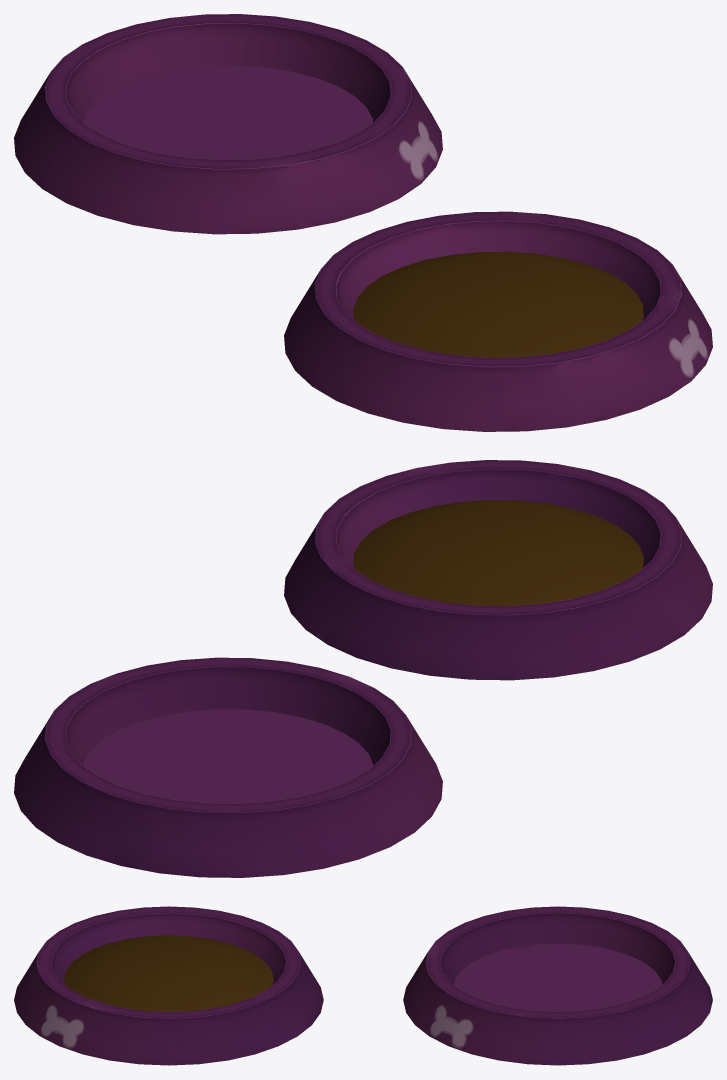
The model's file is Animal_Food_Bowl_Full&Empty.fbx.
3 renders of one model, top to bottom at view 1: azimuth 30°, elevation 25°; view 2: azimuth 150°, elevation 25°; view 3: azimuth 270°, elevation 25°, orthographic. The views are drawn at different scales.
Parts seen in each view (by area): view 1: FoodBowlEmpty_LOW, FoodBowlFull_LOW; view 2: FoodBowlFull_LOW, FoodBowlEmpty_LOW; view 3: FoodBowlEmpty_LOW, FoodBowlFull_LOW.
Part boxes in pixels (x1=…): FoodBowlEmpty_LOW: x1=14, y1=14, x2=442, y2=234; FoodBowlFull_LOW: x1=284, y1=211, x2=712, y2=431; FoodBowlFull_LOW: x1=284, y1=460, x2=712, y2=680; FoodBowlEmpty_LOW: x1=14, y1=657, x2=442, y2=877; FoodBowlEmpty_LOW: x1=403, y1=906, x2=712, y2=1065; FoodBowlFull_LOW: x1=14, y1=906, x2=323, y2=1065.
Bounding box in the file's own units: 25 × 3.35 × 56.4.
2 materials, 2 textured.
